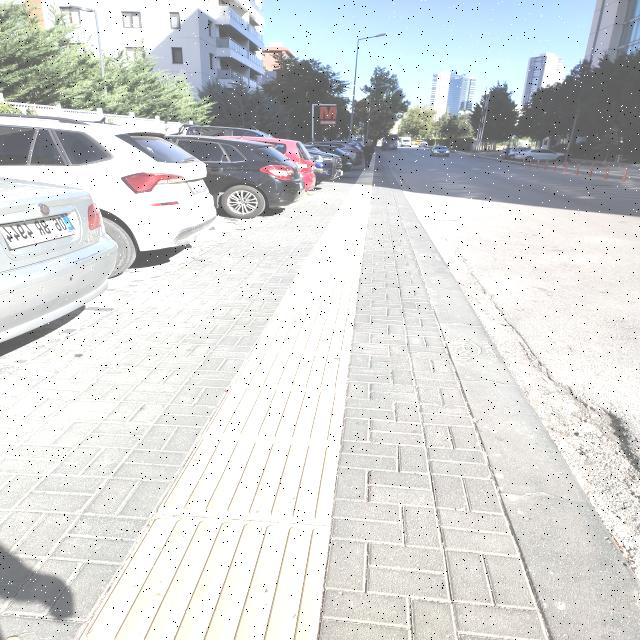sidewalk: (3, 161, 637, 640)
